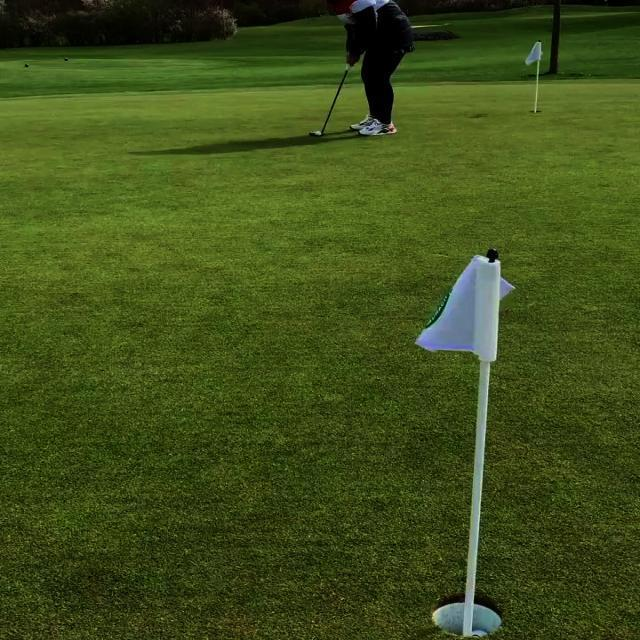ClubHead: (309, 131, 323, 136)
GolfBall: (314, 131, 322, 136)
